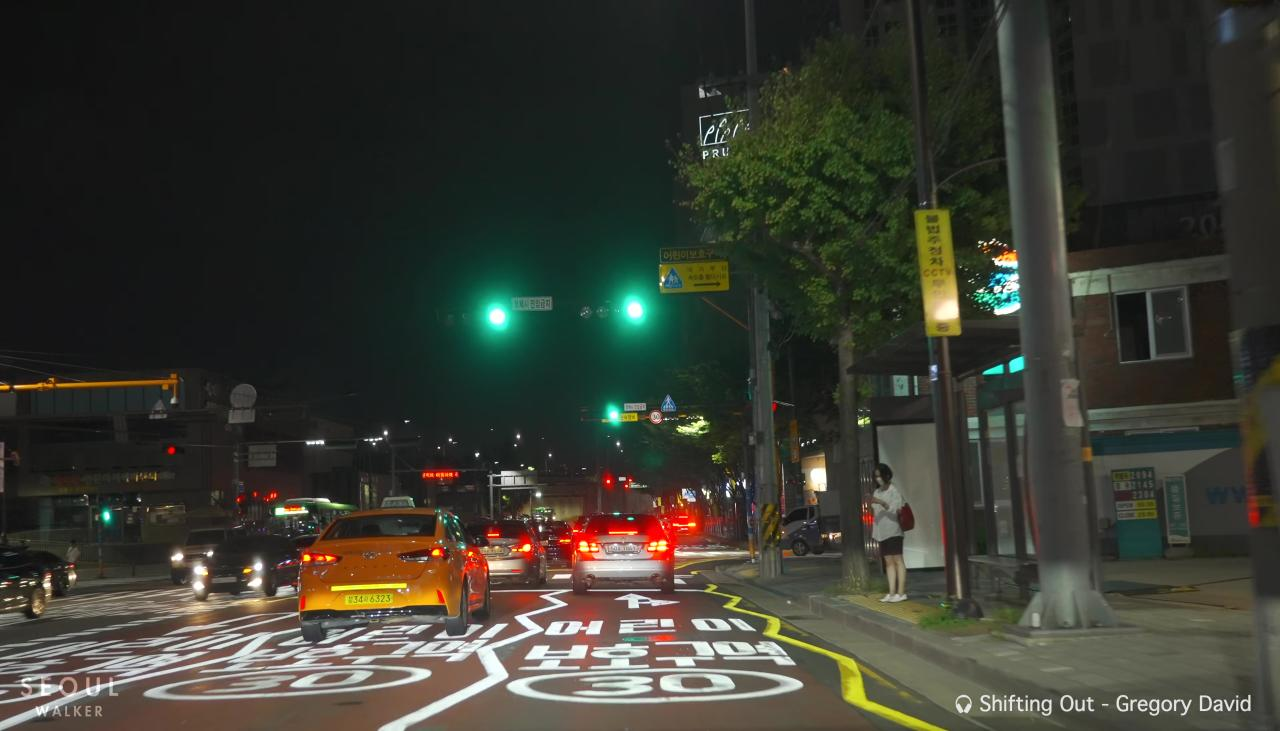Green Light: (485, 305, 508, 327), (625, 299, 647, 322)
